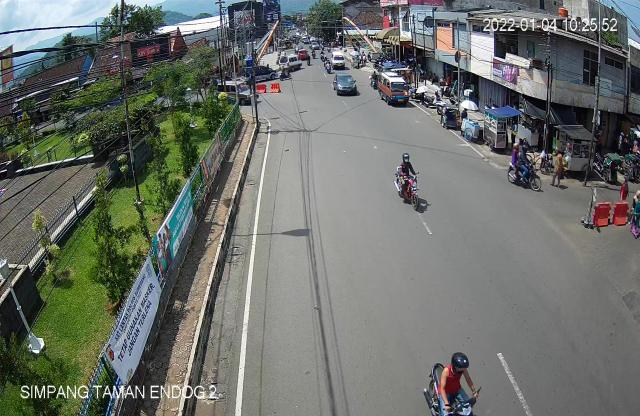Mobil: (378, 69, 410, 109), (333, 70, 359, 99)
Motor: (421, 346, 487, 416), (388, 151, 433, 226), (503, 134, 546, 197)
